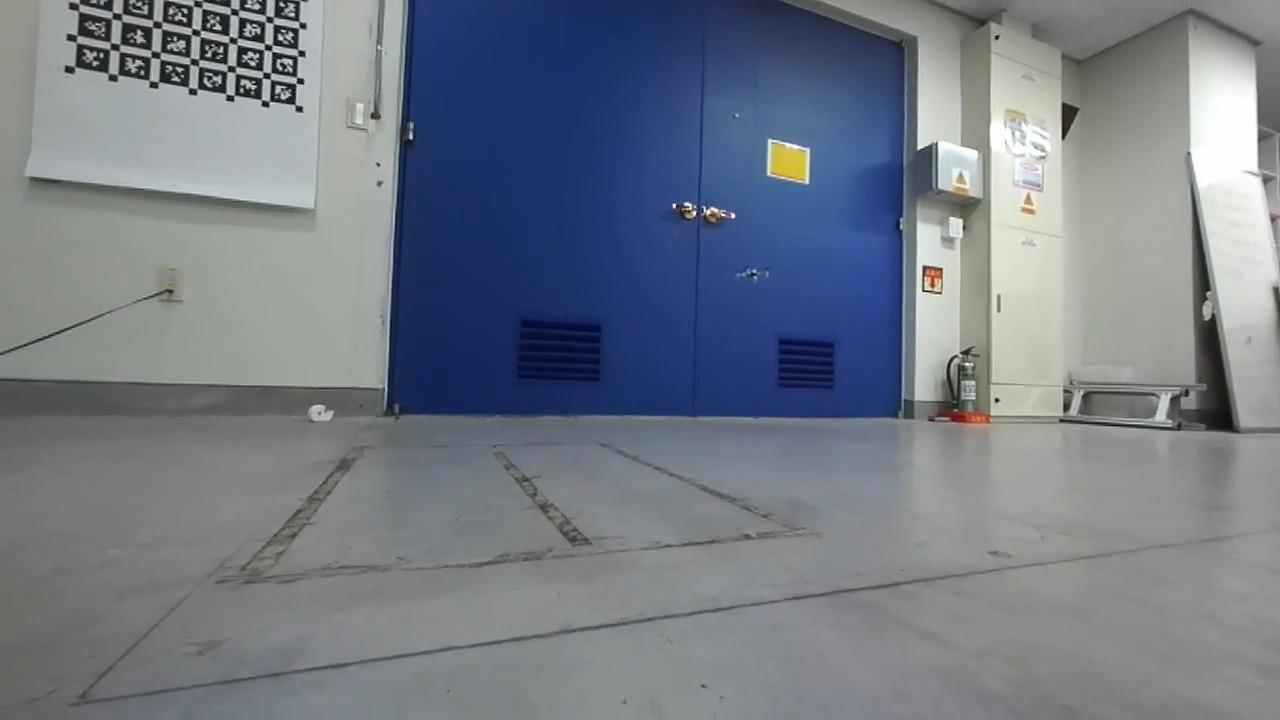crazyflie: (729, 261, 775, 286)
